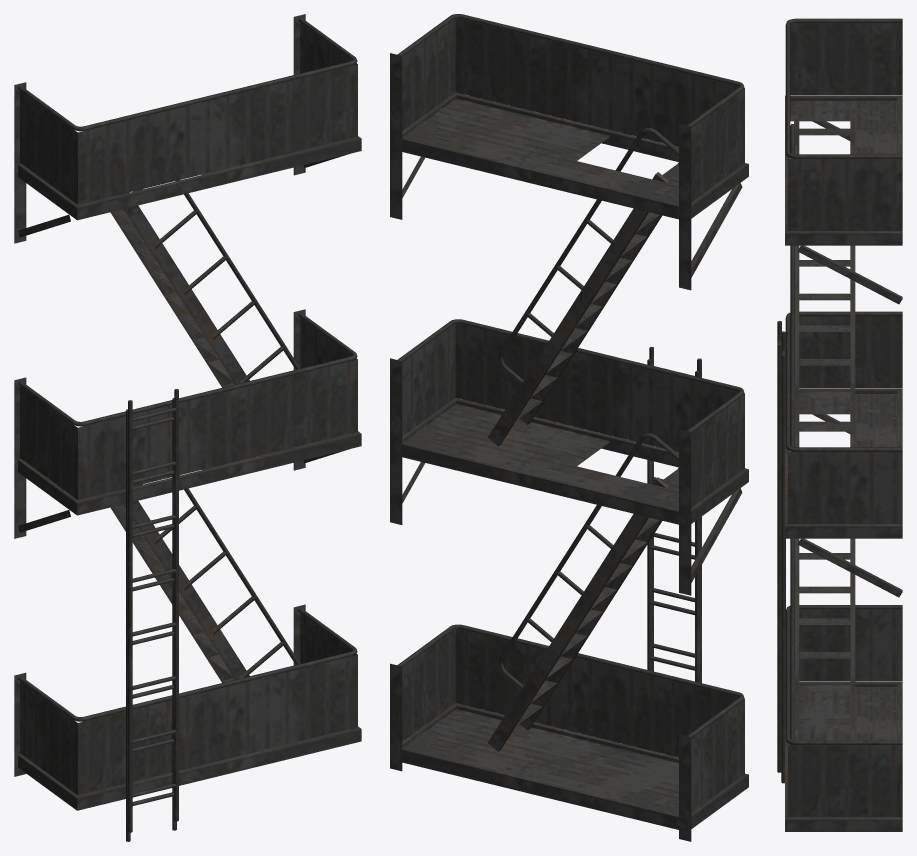
File: sm20_010_emergencystairs01a.fbx
3 views of the same model, side by side, from view 1: azimuth 30°, elevation 25°; view 2: azimuth 150°, elevation 25°; view 3: azimuth 270°, elevation 25° (orthographic). The views are drawn at different scales.
Parts seen in each view (by area): view 1: LOD_1_Group_0_Sub_1__sm20_010_emergencyStairs01A_A_Mat; view 2: LOD_1_Group_0_Sub_1__sm20_010_emergencyStairs01A_A_Mat; view 3: LOD_1_Group_0_Sub_1__sm20_010_emergencyStairs01A_A_Mat.
Part boxes in pixels (x1,y1,x2,y2): LOD_1_Group_0_Sub_1__sm20_010_emergencyStairs01A_A_Mat: (14, 14, 361, 841); LOD_1_Group_0_Sub_1__sm20_010_emergencyStairs01A_A_Mat: (390, 14, 748, 841); LOD_1_Group_0_Sub_1__sm20_010_emergencyStairs01A_A_Mat: (777, 18, 902, 831).
Bounding box in the file's own units: 2.84 × 6.75 × 1.07.
